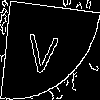V: (25, 25, 60, 75)
